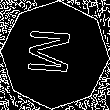M_E: (28, 30, 82, 80)
